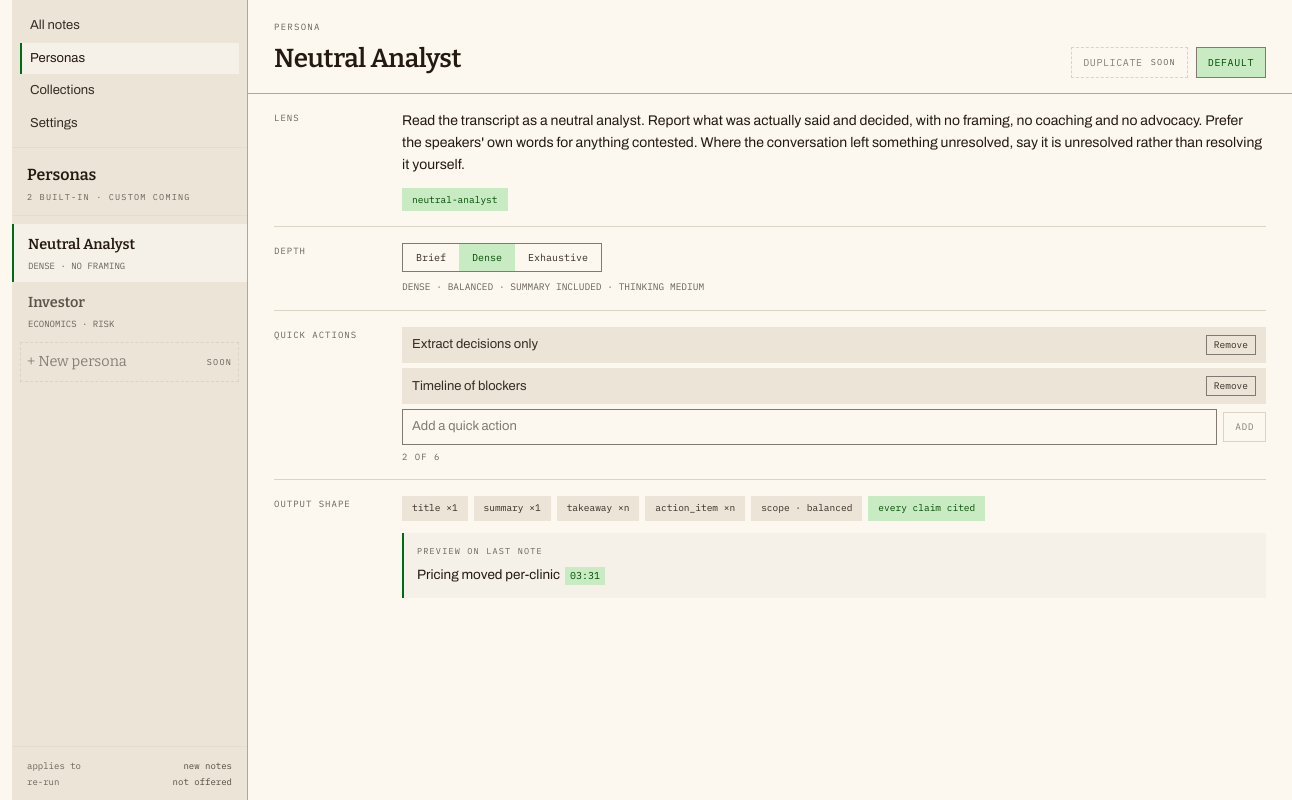
PersonasShell — depth › names the refusal instead of silently snapping back
Click the button "brief": (431, 257) [403, 244, 459, 271]
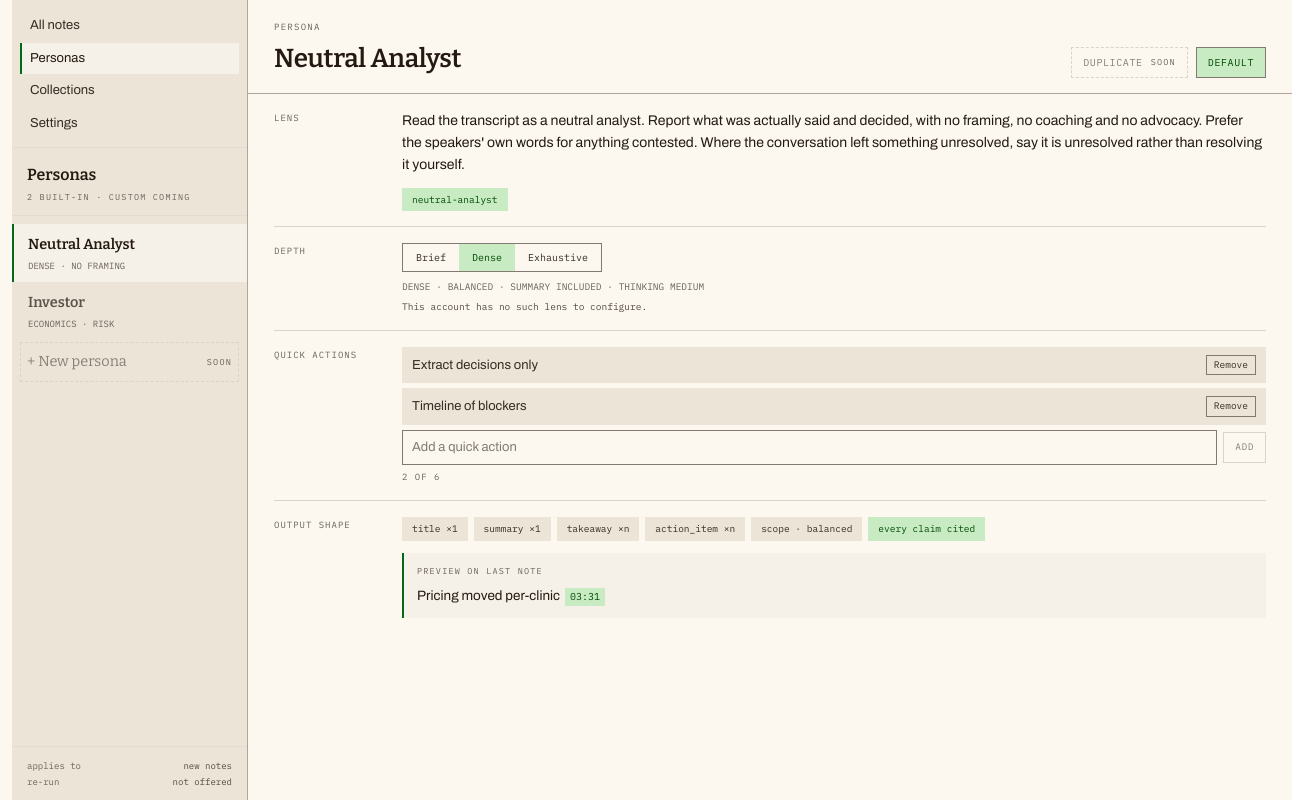
Result: the message shows "no such lens" at [402, 300, 647, 313]
